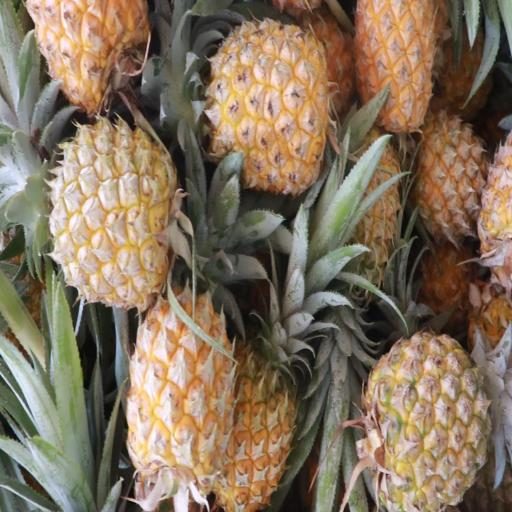------------------------------: (348, 324, 512, 512)
Pineapple - v8 v1: (127, 270, 238, 512), (207, 245, 305, 512), (37, 129, 176, 306), (185, 20, 328, 189), (351, 0, 437, 131), (409, 109, 483, 250)
